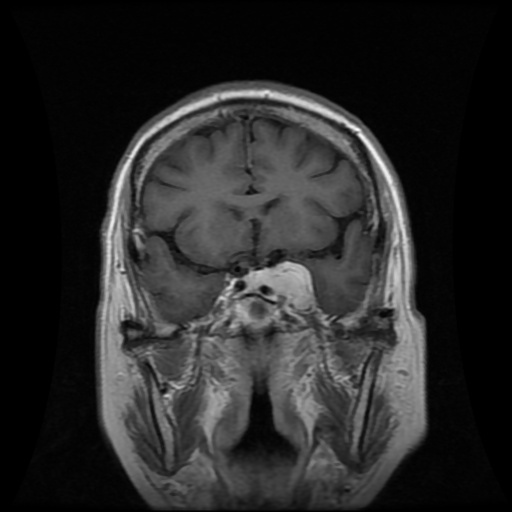meningioma: (222, 262, 316, 312)
